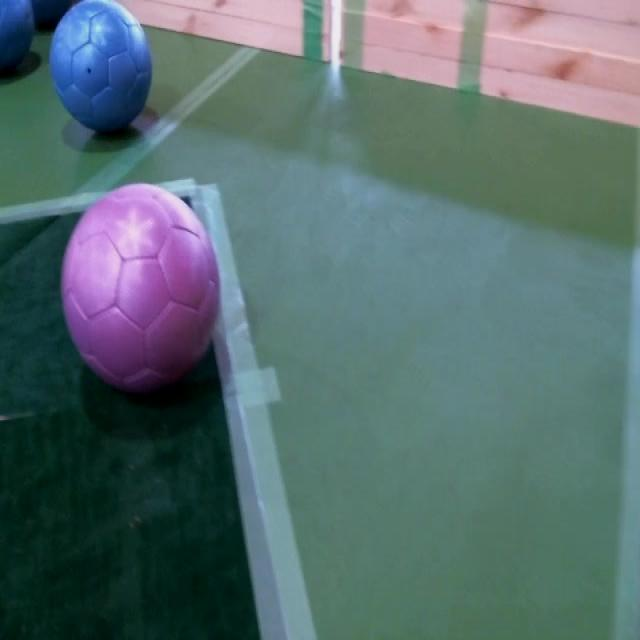blue_ball: (42, 0, 156, 131), (0, 0, 38, 76), (27, 0, 71, 36)
purple_ball: (58, 180, 222, 402)
